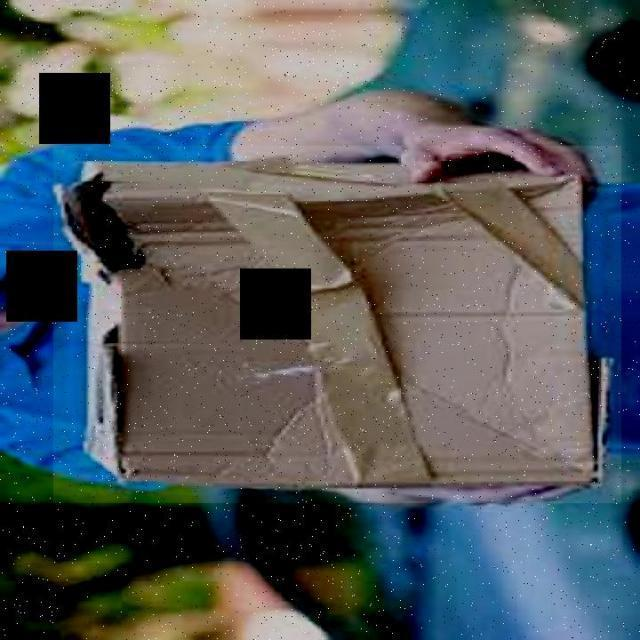box: (54, 146, 622, 504)
